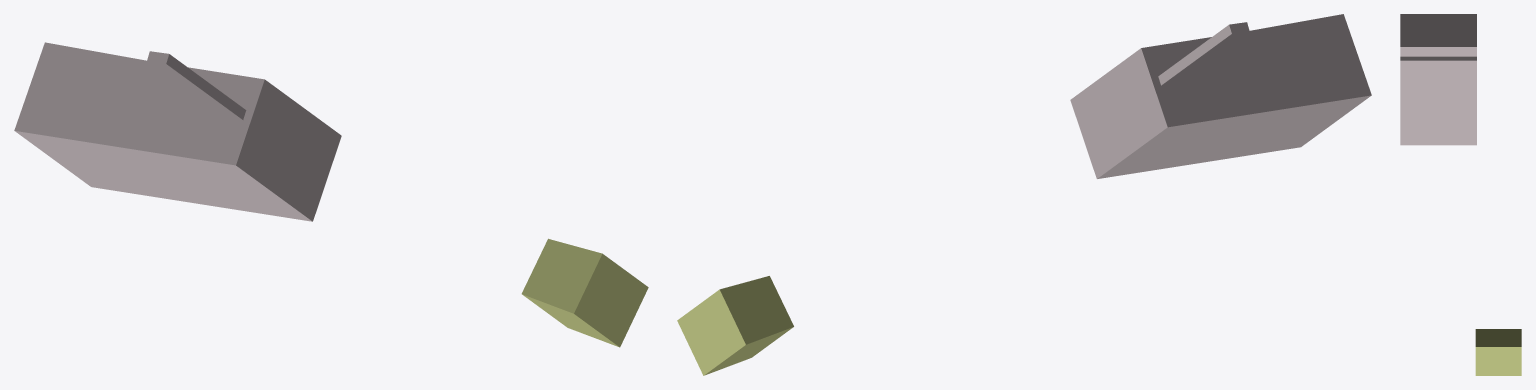
3 renders of one model, left to right at view 1: azimuth 30°, elevation 25°; view 2: azimuth 150°, elevation 25°; view 3: azimuth 270°, elevation 25°, orthographic. The views are drawn at different scales.
Visible parts, largest first — view 1: 0_0_1_3_1_1_2_0; view 2: 0_0_1_3_1_1_2_0; view 3: 0_0_1_3_1_1_2_0.
Boxes of the visible parts, x1=… form: 0_0_1_3_1_1_2_0: x1=14, y1=42, x2=648, y2=347; 0_0_1_3_1_1_2_0: x1=677, y1=14, x2=1371, y2=375; 0_0_1_3_1_1_2_0: x1=1400, y1=14, x2=1521, y2=375.
Bounding box in the file's own units: 71.23 × 47.75 × 23.7.
